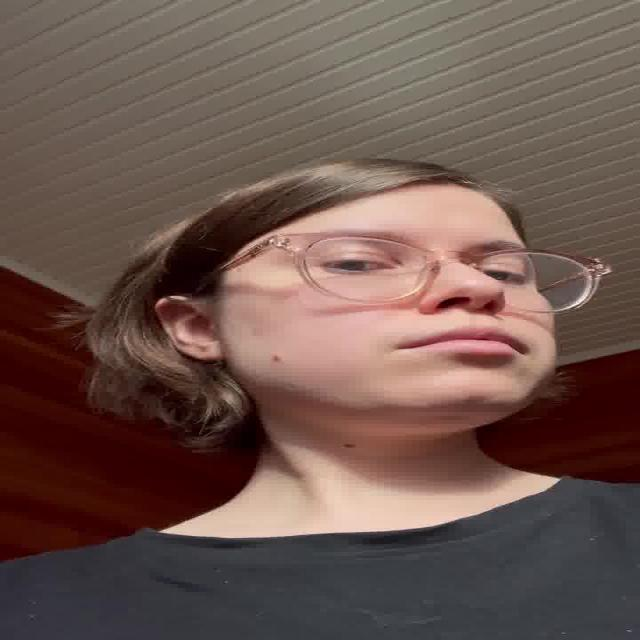earlobe: (189, 342, 224, 362)
eye: (319, 256, 399, 273), (476, 264, 531, 284)
nose: (426, 302, 513, 328)
wholeear: (154, 295, 224, 362)
